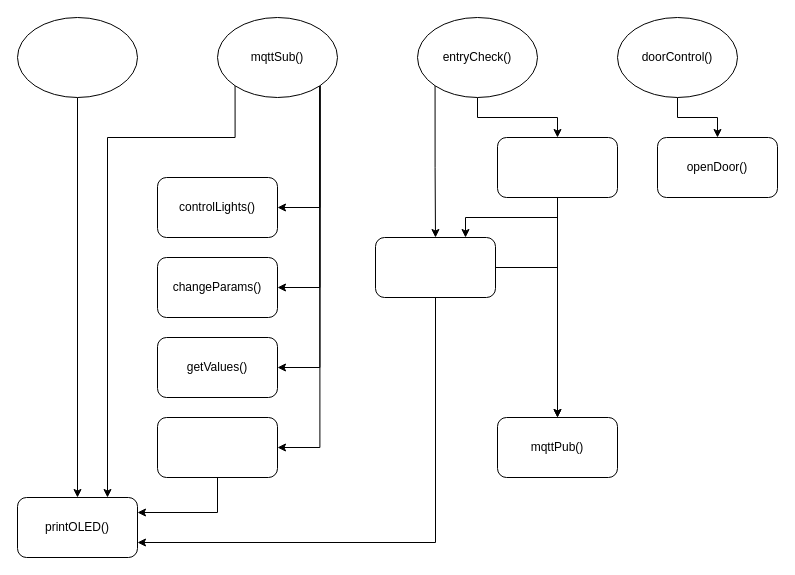
Some shapes in this 795 by 575 pixel diagram are drawn without their labels. Here are the shapes that lost their labels. From the top down, the box of each, then its label:
(16, 16, 138, 98): updateOLED()
(496, 136, 618, 198): checkRFID()
(374, 236, 496, 298): checkKeypad()
(156, 416, 278, 478): showLog()
